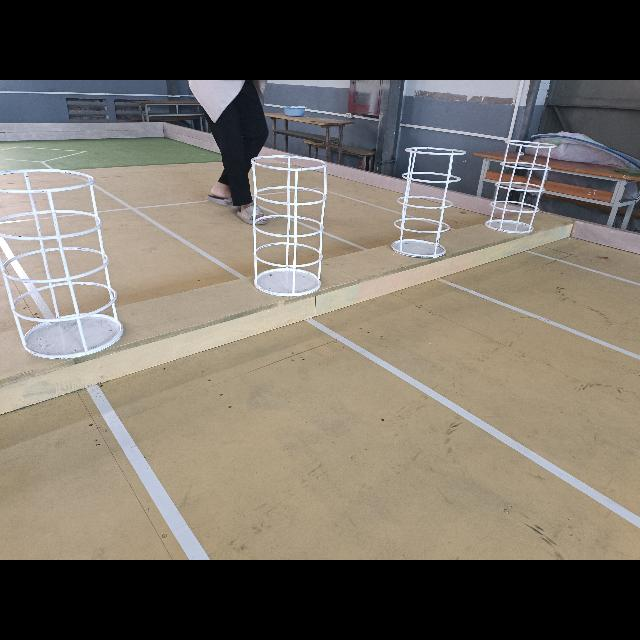S: (0, 159, 129, 359), (250, 151, 326, 302), (392, 146, 467, 262), (486, 139, 561, 236)
